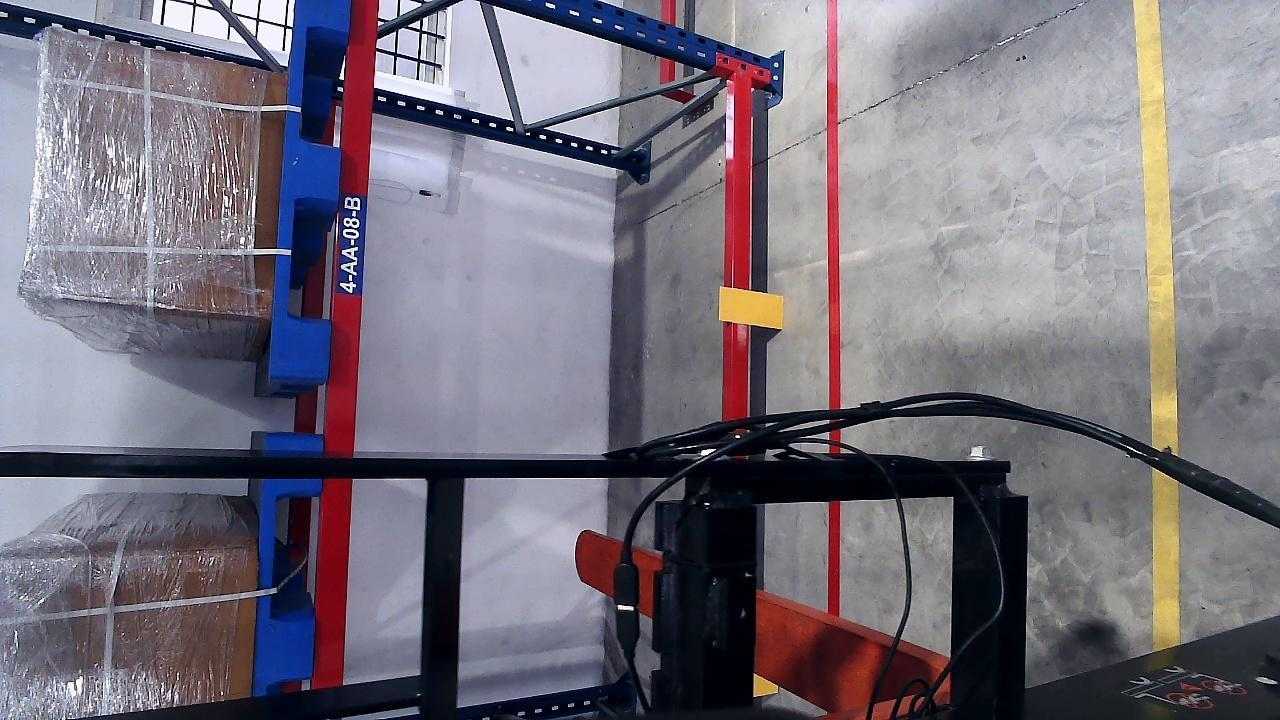red_line: (822, 73, 844, 410)
yellow_line: (1134, 0, 1180, 454), (1153, 446, 1180, 651)
